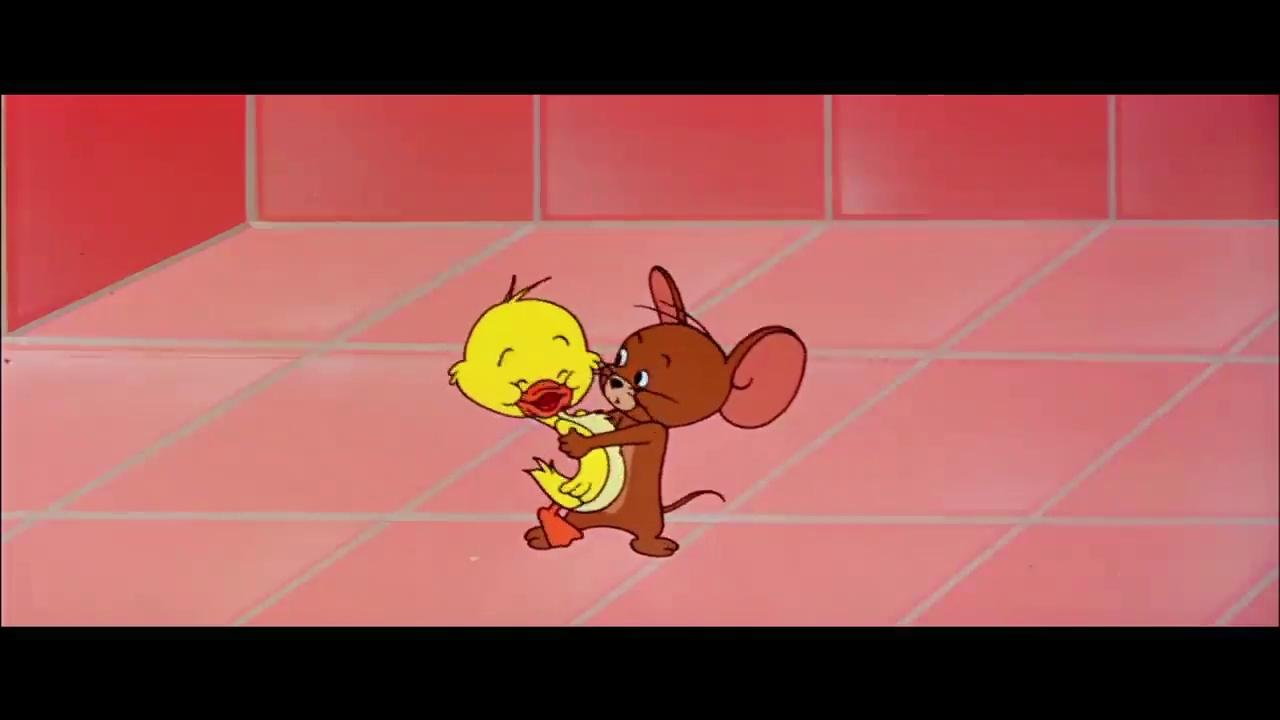Jerry: (521, 263, 808, 559)
